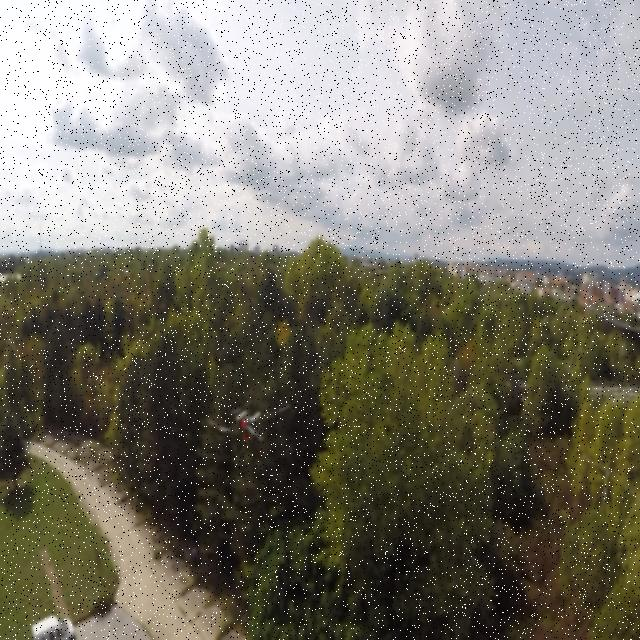UAV: (207, 398, 291, 468)
